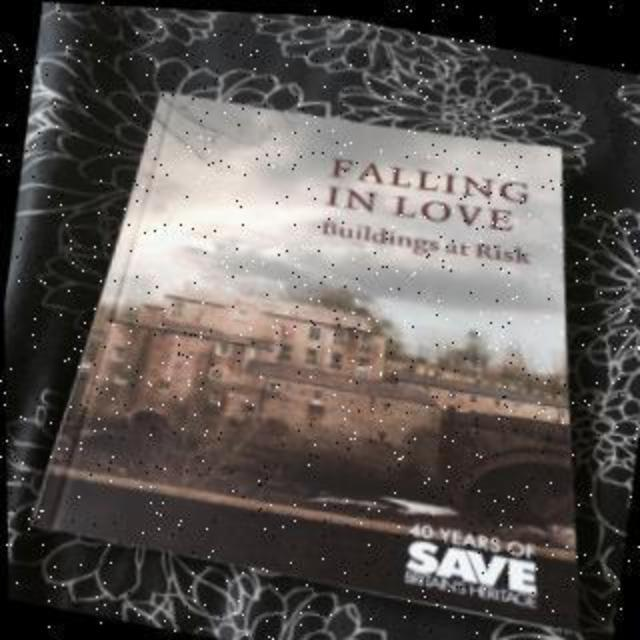book: (24, 44, 640, 632)
